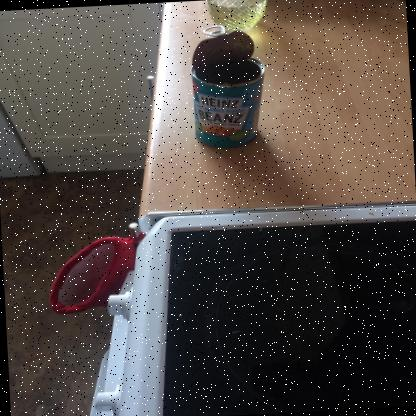Food Can: (190, 25, 265, 148)
Glass cup: (207, 0, 267, 30)
Pop tab: (202, 24, 225, 36)
